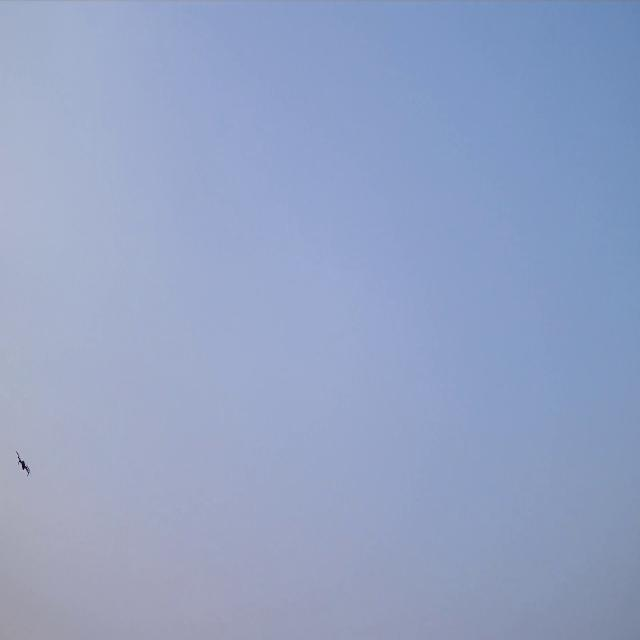UAV: (15, 449, 33, 478)
